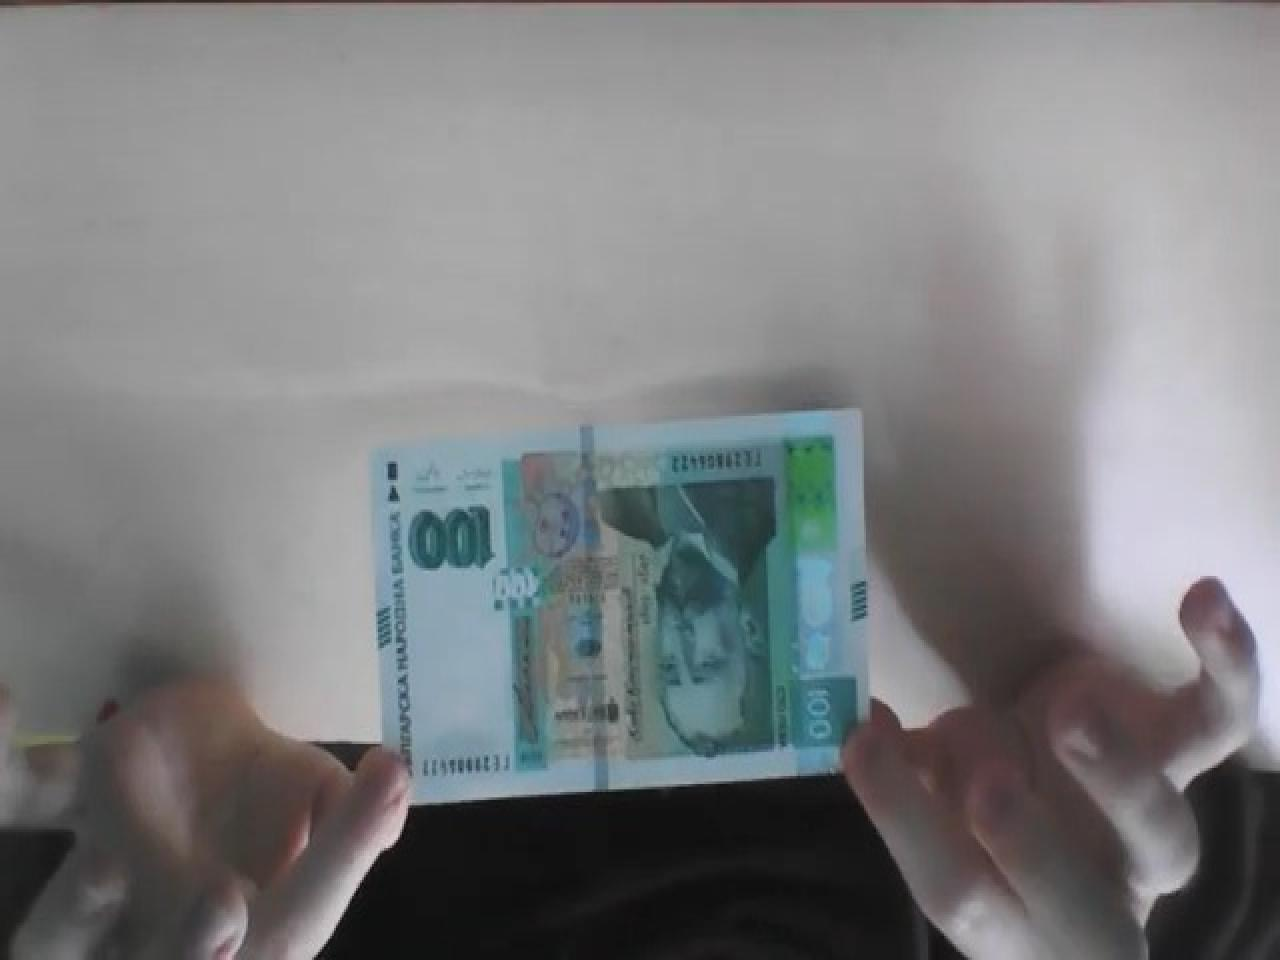100leva: (364, 408, 870, 803)
